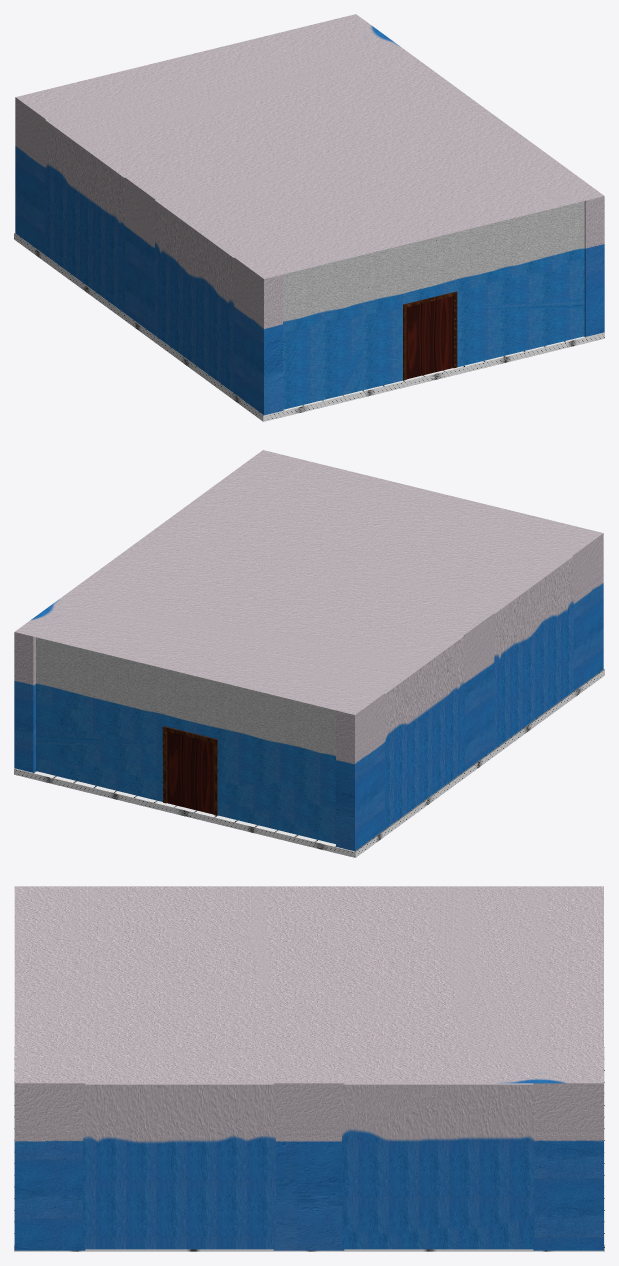
Rendered from Office.fbx.
3 views of the same model, one above another, from view 1: azimuth 30°, elevation 25°; view 2: azimuth 150°, elevation 25°; view 3: azimuth 270°, elevation 25° (orthographic). The views are drawn at different scales.
Visible parts, largest first — view 1: Cube.495, Cube.490, Cube.496, Floor, Cube.497; view 2: Cube.495, Cube.491, Cube.496, Floor, Cube.493; view 3: Cube.495, Cube.496, Floor.
Part boxes in pixels (left/top/right/bottom): Cube.495: left=15, top=14, right=604, bottom=415; Cube.490: left=283, top=201, right=584, bottom=409; Cube.496: left=45, top=120, right=234, bottom=393; Floor: left=14, top=233, right=604, bottom=421; Cube.497: left=406, top=296, right=452, bottom=379; Cube.495: left=14, top=450, right=603, bottom=851; Cube.491: left=36, top=637, right=335, bottom=843; Cube.496: left=385, top=556, right=573, bottom=828; Floor: left=14, top=669, right=604, bottom=857; Cube.493: left=167, top=731, right=213, bottom=814; Cube.495: left=14, top=886, right=603, bottom=1250; Cube.496: left=83, top=1083, right=534, bottom=1249; Floor: left=14, top=1047, right=604, bottom=1251.
Size of the model in its own units: 855 by 340 by 1080.
